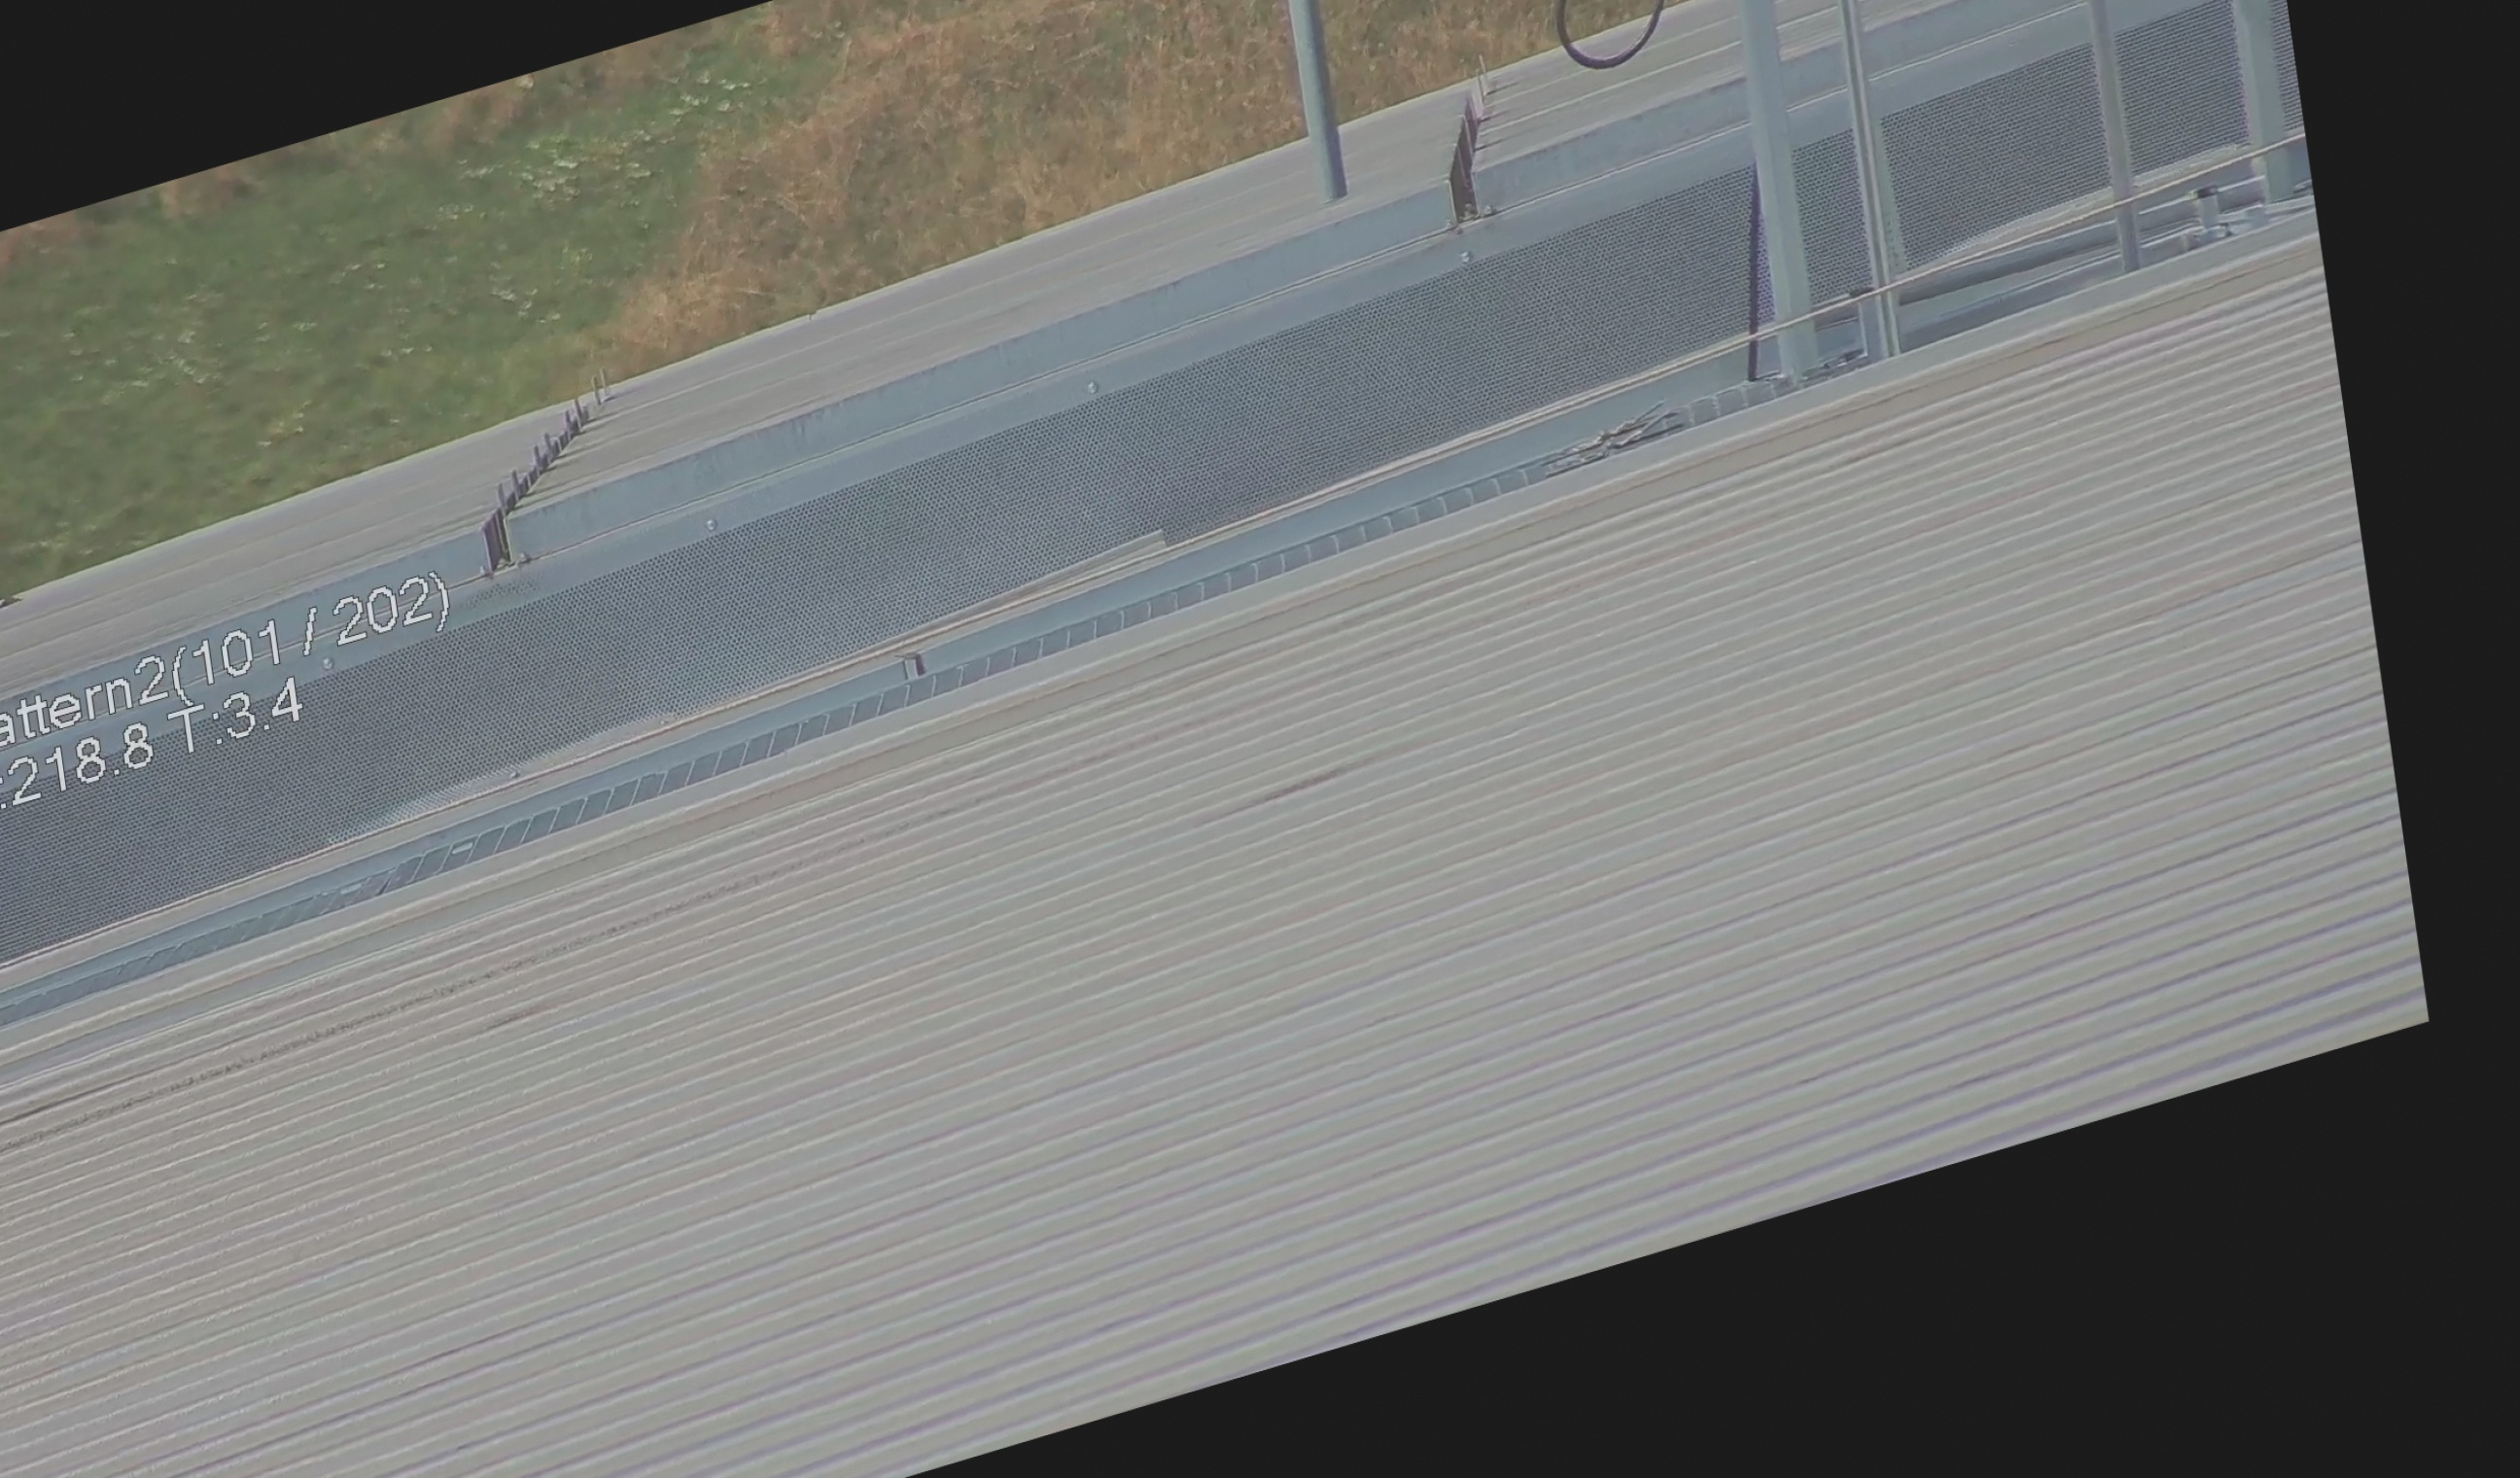Other: (1421, 62, 1530, 232)
